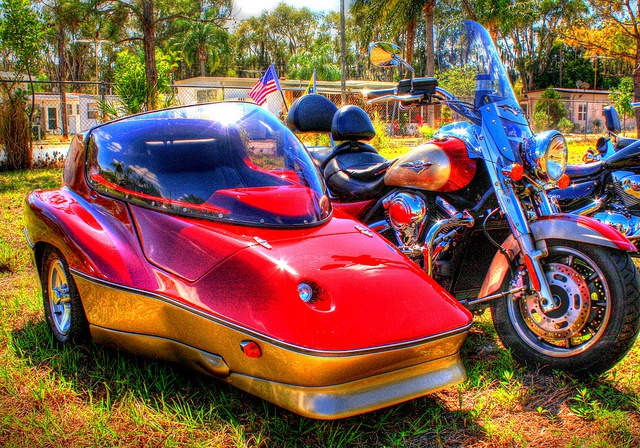non-vehicle: (285, 20, 639, 379), (553, 137, 639, 258)
